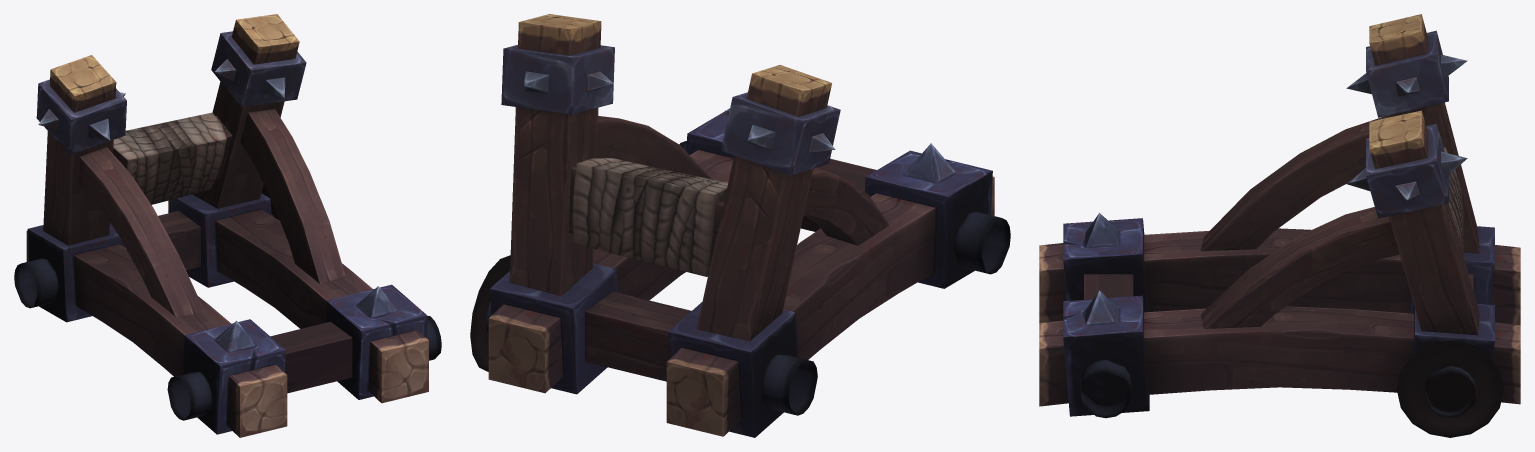
File: catapult_base.fbx
The picture shows the model from 3 angles, left to right: view 1: azimuth 30°, elevation 25°; view 2: azimuth 150°, elevation 25°; view 3: azimuth 270°, elevation 25°; orthographic projection. The views are drawn at different scales.
Parts seen in each view (by area): view 1: catapult_base; view 2: catapult_base; view 3: catapult_base.
Part boxes in pixels (bbox=[...]): catapult_base: bbox=[14, 14, 441, 437]; catapult_base: bbox=[470, 14, 1010, 437]; catapult_base: bbox=[1039, 14, 1520, 437].
Bounding box in the file's own units: 1.75 × 1.72 × 2.47.
